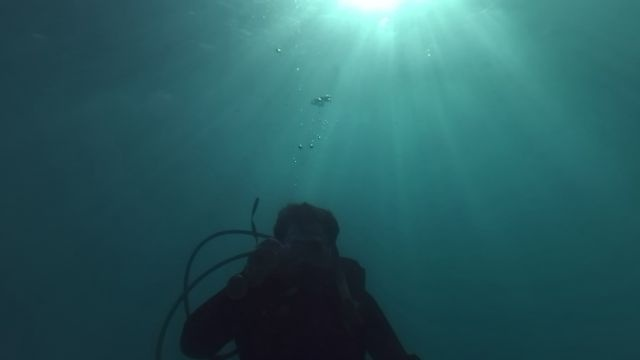Diver: (165, 191, 403, 356)
